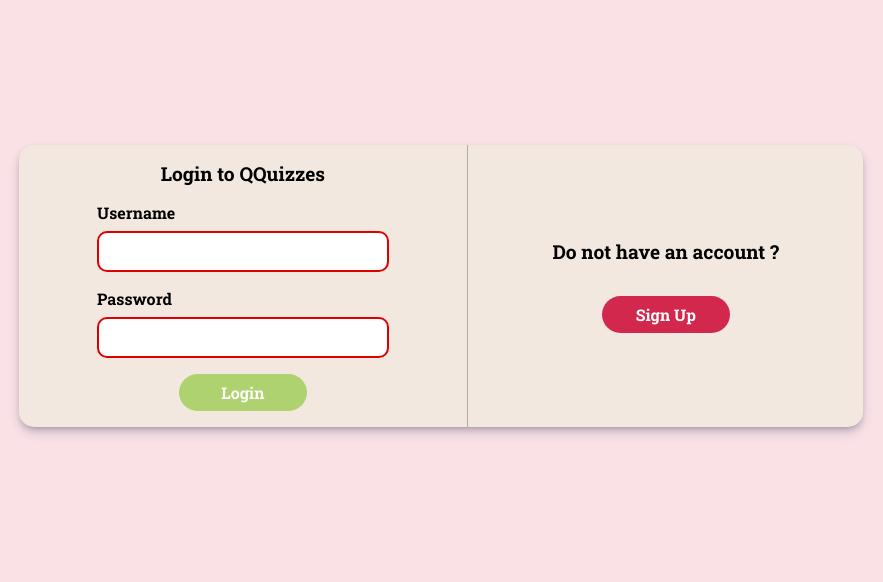
Scenario: (Authentication Form) Component › Form layout based on switch state
Expected: the element that starts with "Login to QQuizzes" is shown, [19,145,863,427]
Step 1. Click the button "Sign Up" → x=666, y=314, box [602,296,730,333]
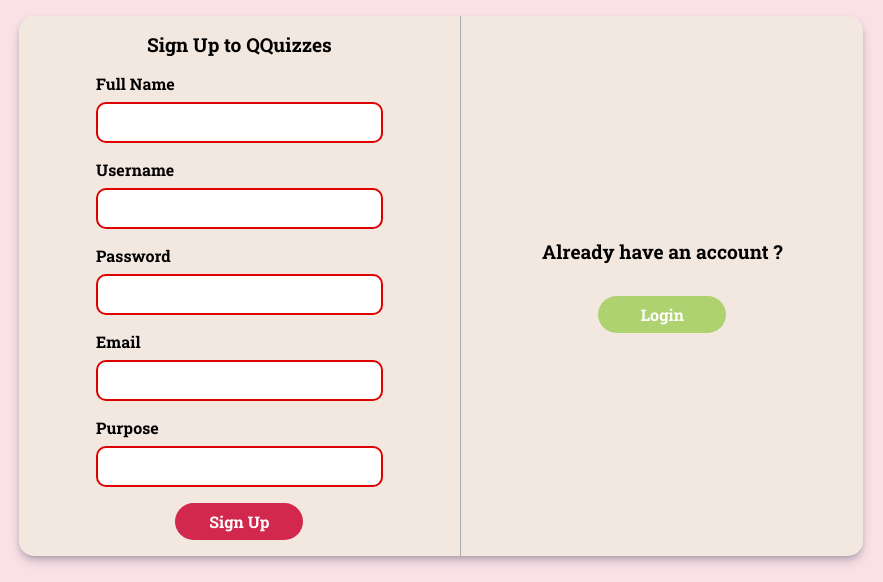
Expected: the element that starts with "Sign Up to QQuizzes" is shown
